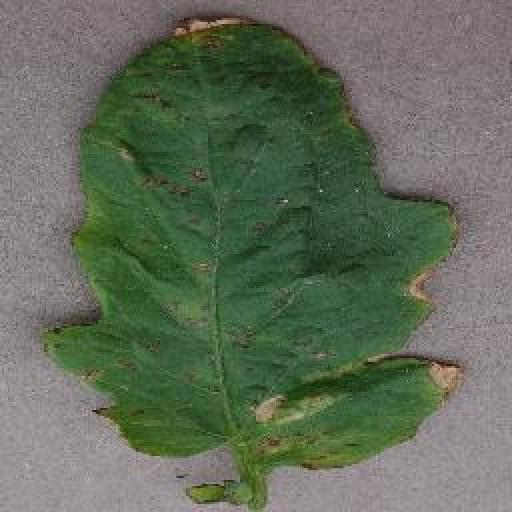Bacterial Spot: (35, 11, 465, 472)
